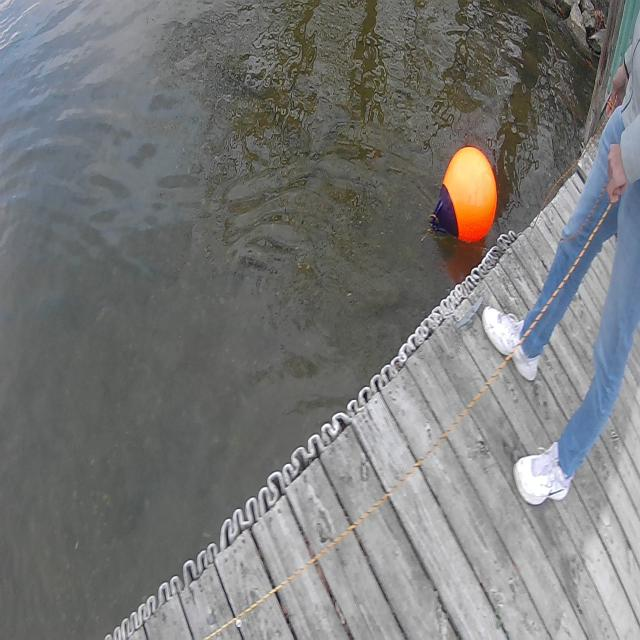Buoy: (427, 139, 500, 249)
